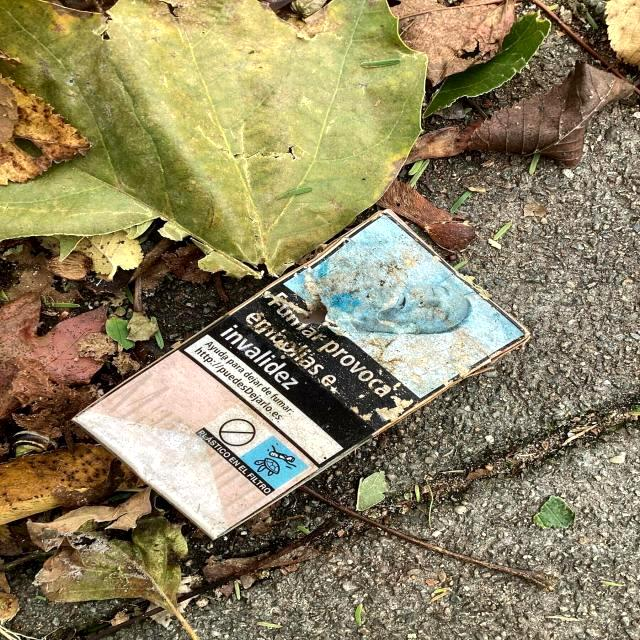Paper: (67, 203, 535, 542)
